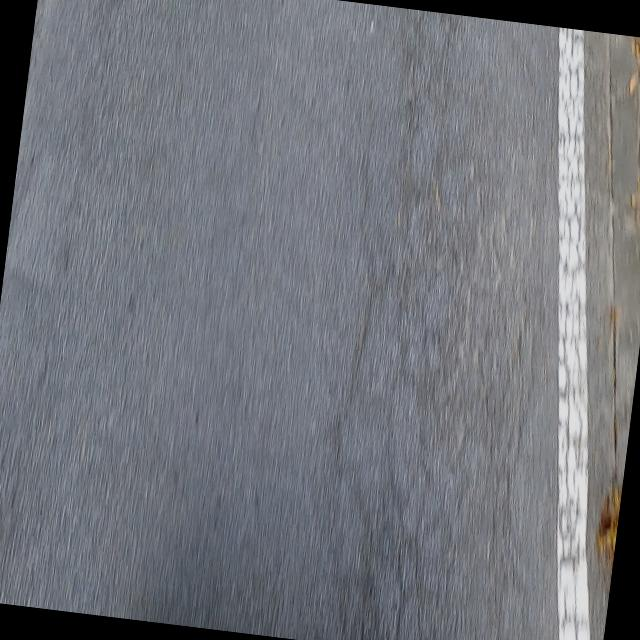Retak-Buaya: (331, 125, 541, 640), (559, 27, 590, 624)
